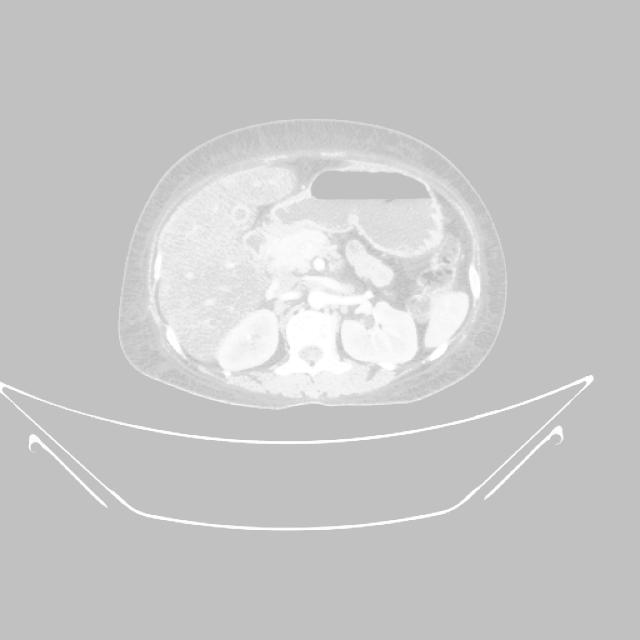NORMAL: (132, 155, 489, 395)
